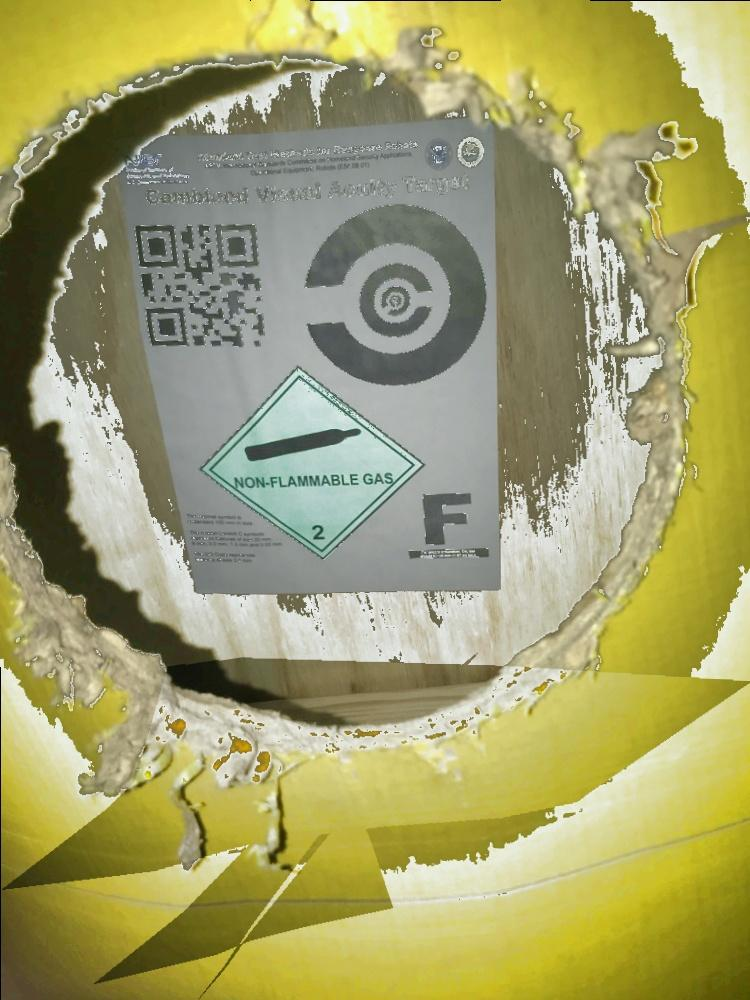non-flammable-gas: (198, 363, 425, 561)
